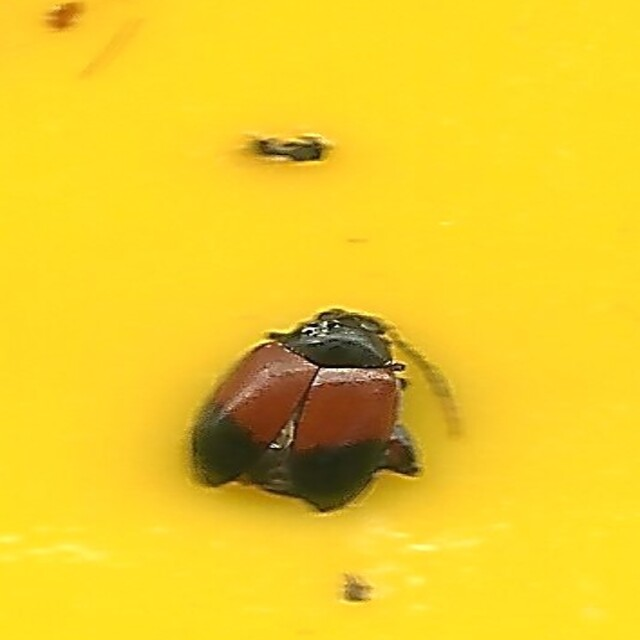Coleoptera: (181, 301, 459, 516)
Hymenoptera: (240, 124, 338, 172)
